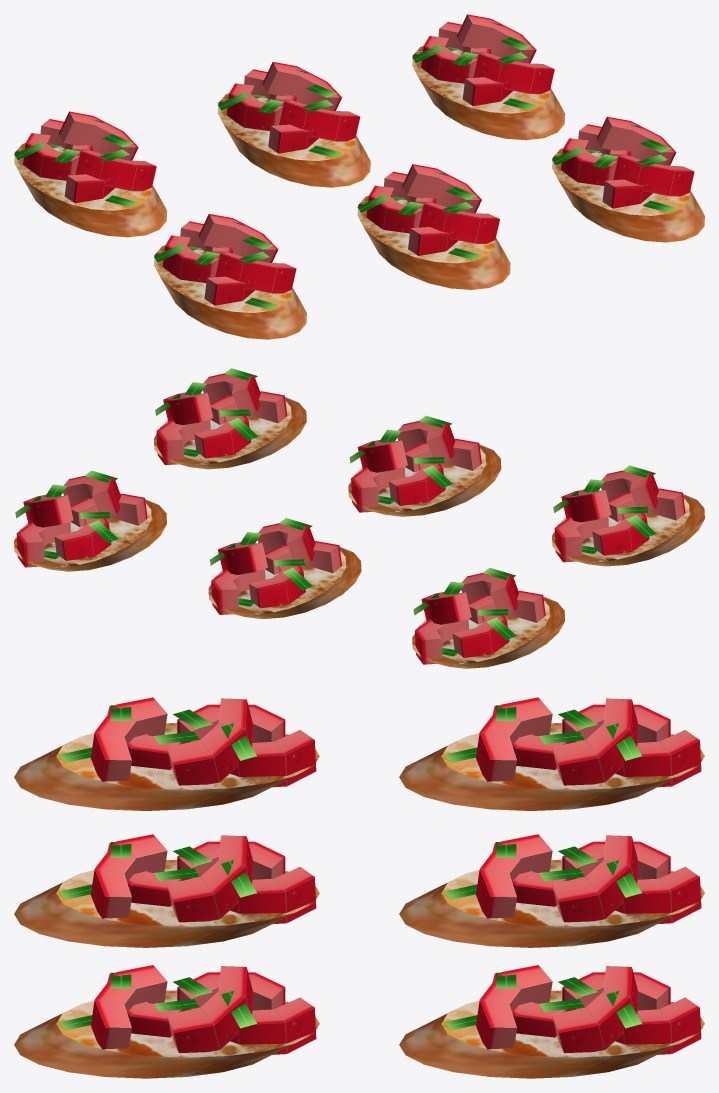
Rendered from BruschettaTomatoBasil.fbx.
The picture shows the model from 3 angles, top to bottom: view 1: azimuth 30°, elevation 25°; view 2: azimuth 150°, elevation 25°; view 3: azimuth 270°, elevation 25°; orthographic projection. The views are drawn at different scales.
Visible parts, largest first — view 1: Brushetta7; view 2: Brushetta7; view 3: Brushetta7.
Part boxes in pixels (left/top/right/bottom): Brushetta7: left=14, top=14, right=704, bottom=339; Brushetta7: left=14, top=368, right=704, bottom=668; Brushetta7: left=14, top=697, right=704, bottom=1078.
Bounding box in the file's own units: 22.67 × 2.61 × 19.73.
Materials: 3 (3 with a texture image).
